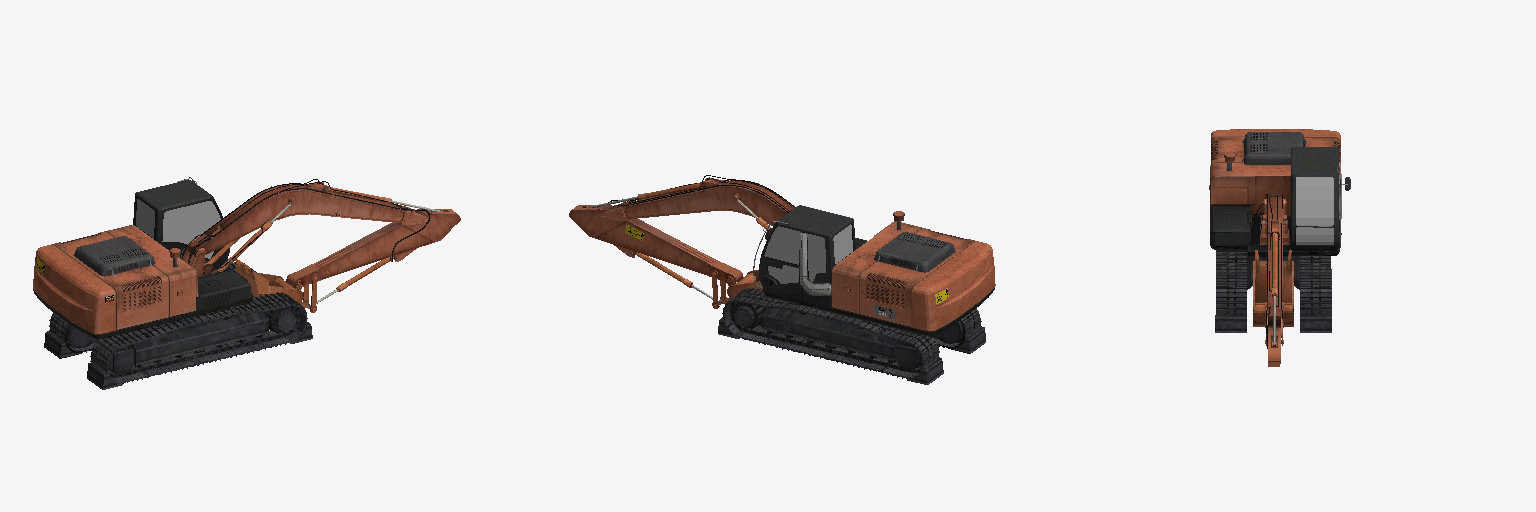
The picture shows the model from 3 angles: view 1: azimuth 30°, elevation 25°; view 2: azimuth 150°, elevation 25°; view 3: azimuth 270°, elevation 25°; orthographic projection.
Parts seen in each view (by area): view 1: Object_ow_excavator_jpg, Object_glas_jpg; view 2: Object_ow_excavator_jpg, Object_glas_jpg; view 3: Object_ow_excavator_jpg, Object_glas_jpg.
Part boxes in pixels (bbox=[...]): Object_ow_excavator_jpg: bbox=[33, 177, 460, 389]; Object_glas_jpg: bbox=[136, 199, 220, 258]; Object_ow_excavator_jpg: bbox=[569, 175, 995, 384]; Object_glas_jpg: bbox=[764, 224, 852, 283]; Object_ow_excavator_jpg: bbox=[1209, 129, 1350, 366]; Object_glas_jpg: bbox=[1296, 177, 1333, 244].
Size of the model in its own units: 1.89 by 0.5973 by 0.5842.
Materials: 3 (1 with a texture image).